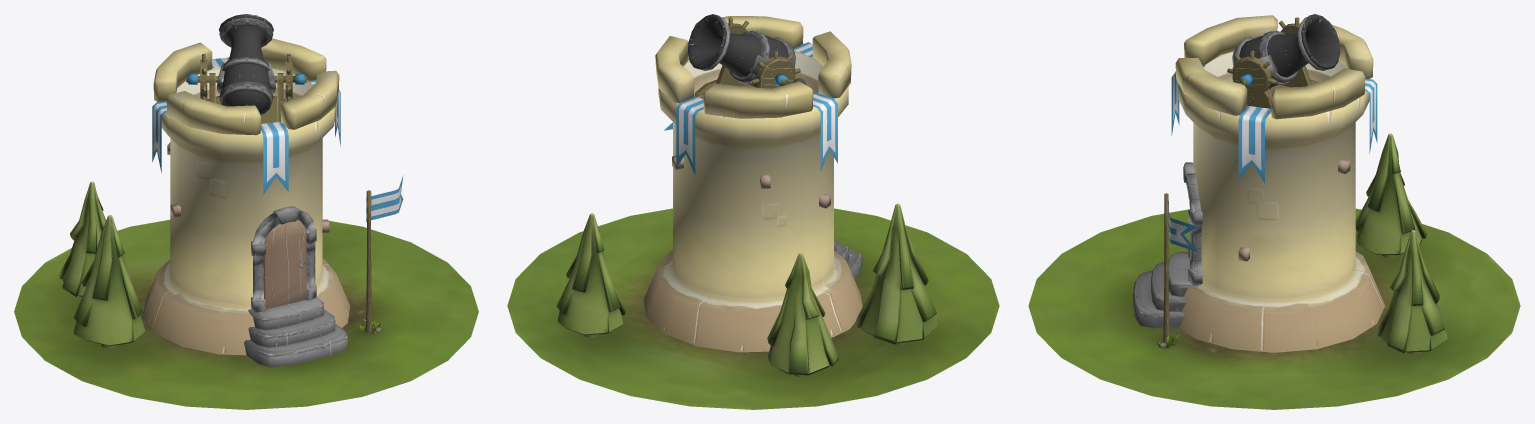
Rendered from tower.glb.
3 views of the same model, side by side, from view 1: azimuth 30°, elevation 25°; view 2: azimuth 150°, elevation 25°; view 3: azimuth 270°, elevation 25° (orthographic). The views are drawn at different scales.
Visible parts, largest first — view 1: Object_2, Object_3; view 2: Object_2, Object_3; view 3: Object_2, Object_3.
Part boxes in pixels (x1=…): Object_2: x1=14, y1=14, x2=478, y2=409; Object_3: x1=142, y1=38, x2=350, y2=367; Object_2: x1=507, y1=14, x2=999, y2=409; Object_3: x1=643, y1=16, x2=862, y2=352; Object_2: x1=1028, y1=14, x2=1520, y2=409; Object_3: x1=1133, y1=15, x2=1385, y2=352.
Size of the model in its own units: 6.34 by 4.26 by 6.34.
2 materials, 2 textured.
